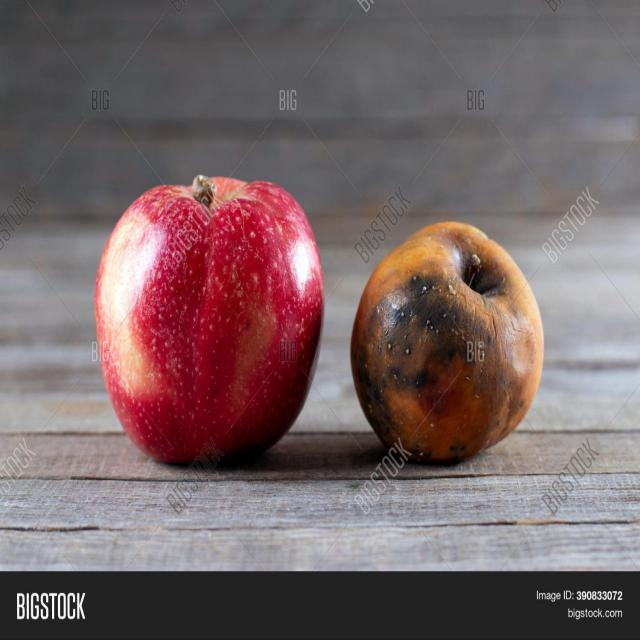Fresh Apple: (108, 180, 312, 455)
Rotten: (365, 234, 535, 468)
